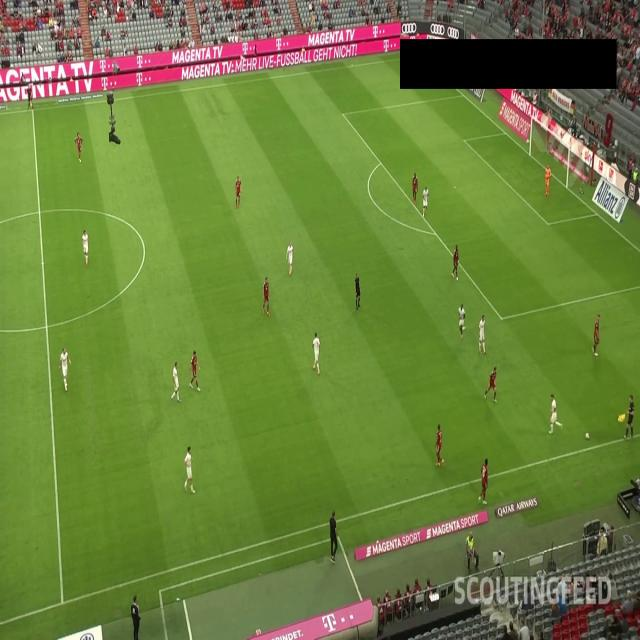ball: (582, 429, 590, 440)
player: (433, 414, 448, 469), (183, 442, 196, 494), (476, 310, 490, 356), (487, 358, 500, 407), (548, 386, 560, 434), (481, 456, 492, 506), (189, 346, 200, 394), (79, 227, 91, 271), (592, 314, 603, 362), (310, 330, 322, 373), (455, 303, 470, 337), (262, 270, 274, 312), (409, 172, 421, 207), (62, 348, 72, 390), (172, 363, 182, 400), (450, 240, 459, 279), (422, 183, 431, 218), (544, 164, 553, 198), (234, 173, 242, 209), (74, 132, 82, 168), (288, 242, 295, 280)
